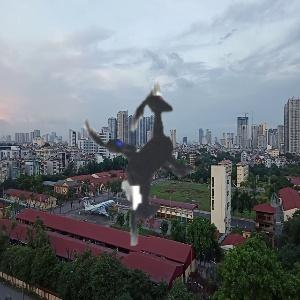drone: (12, 38, 268, 294)
